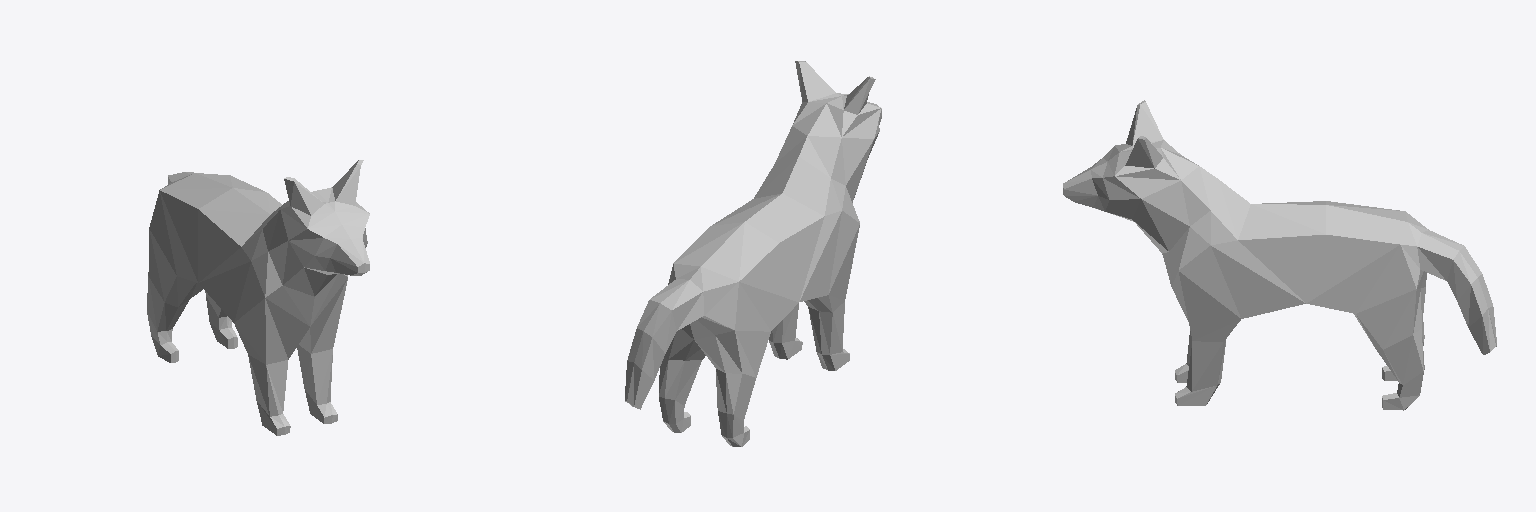
The model's file is Fox.obj.
The picture shows the model from 3 angles: view 1: azimuth 30°, elevation 25°; view 2: azimuth 150°, elevation 25°; view 3: azimuth 270°, elevation 25°; orthographic projection.
Visible parts, largest first — view 1: Body_Cube.010; view 2: Body_Cube.010; view 3: Body_Cube.010.
Boxes of the visible parts, box(x1,y1,x2,y2) form: Body_Cube.010: box(147, 160, 369, 435); Body_Cube.010: box(625, 61, 881, 446); Body_Cube.010: box(1063, 100, 1496, 410).
Bounding box in the file's own units: 1.63 × 4.8 × 6.9.